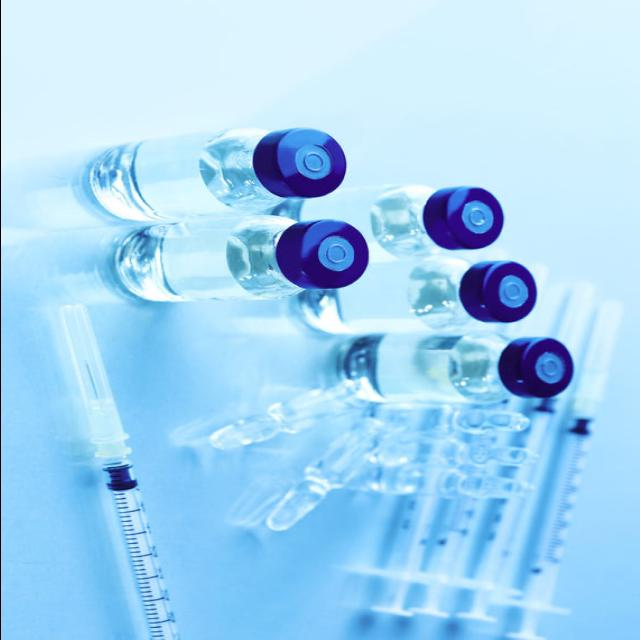vial: (278, 215, 372, 291), (253, 126, 349, 198), (426, 182, 504, 250), (496, 336, 574, 404), (456, 262, 538, 326)
